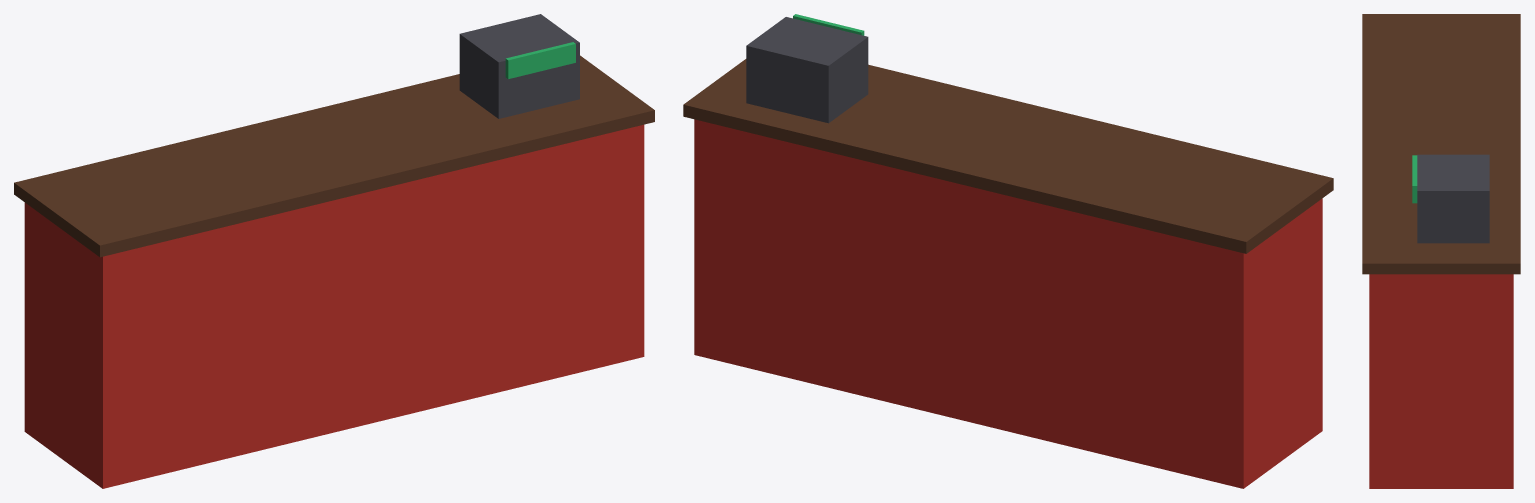
The model's file is structure.glb.
The picture shows the model from 3 angles, left to right: view 1: azimuth 30°, elevation 25°; view 2: azimuth 150°, elevation 25°; view 3: azimuth 270°, elevation 25°; orthographic projection. The views are drawn at different scales.
Parts seen in each view (by area): view 1: Box2, Box3, Box4, Box5; view 2: Box2, Box3, Box4; view 3: Box3, Box2, Box4, Box5.
Part boxes in pixels (x1,y1,x2,y2): Box2: (24,124,644,488); Box3: (14,55,654,257); Box4: (459,14,579,118); Box5: (505,42,575,79); Box2: (694,119,1322,488); Box3: (683,59,1333,253); Box4: (746,17,868,123); Box3: (1362,14,1520,274); Box2: (1369,274,1513,488); Box4: (1417,154,1489,243); Box5: (1412,155,1417,203).
Size of what is drawn, in the model's own units: 2.46 by 1.3 by 0.66.
